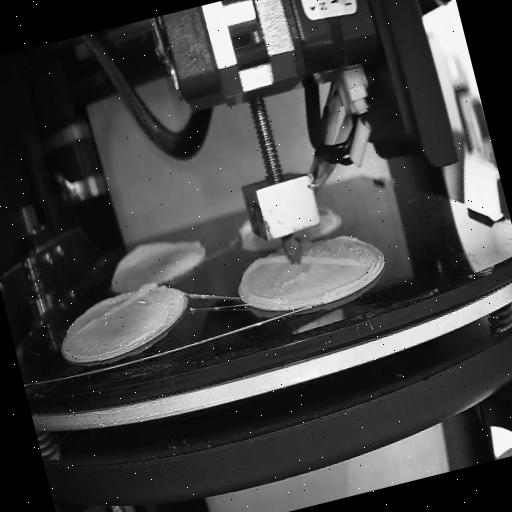over_extrusion: (106, 228, 208, 284), (66, 277, 162, 335), (302, 240, 364, 280), (254, 250, 290, 272), (234, 217, 256, 243), (318, 202, 334, 218)
